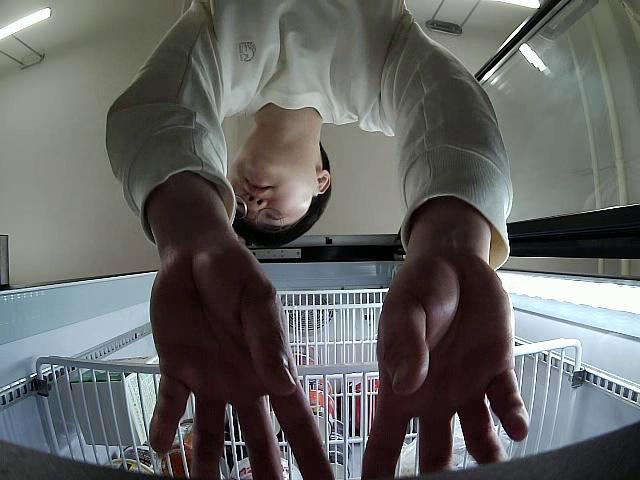00_hand: (149, 247, 336, 480), (363, 256, 529, 480)
